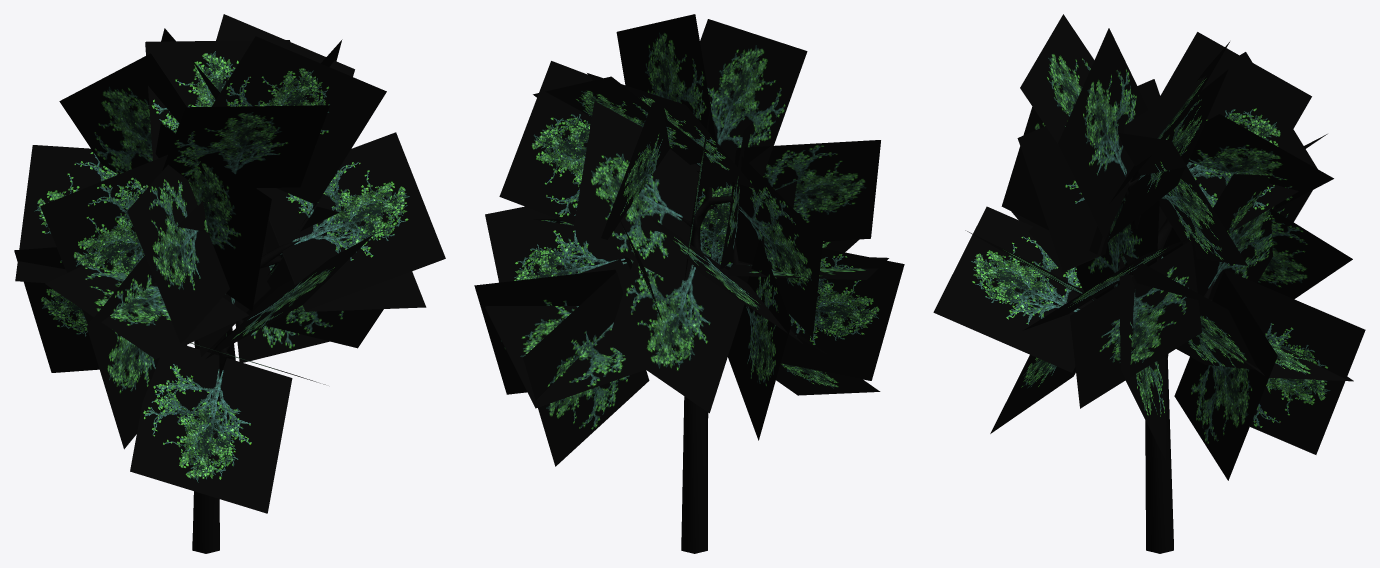
The model's file is tree59.glb.
3 views of the same model, side by side, from view 1: azimuth 30°, elevation 25°; view 2: azimuth 150°, elevation 25°; view 3: azimuth 270°, elevation 25° (orthographic). The views are drawn at different scales.
Size of the model in its own units: 5.22 by 6.93 by 5.11.
Materials: 2 (1 with a texture image).
